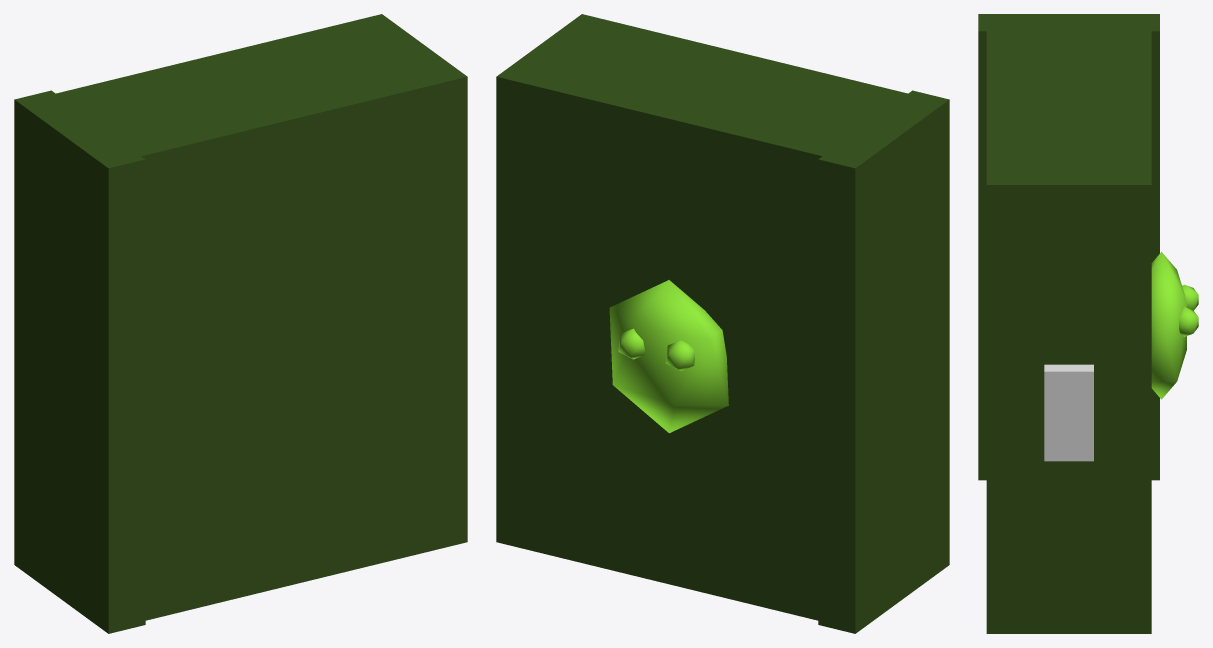
The model's file is cursed_flames.glb.
3 renders of one model, left to right at view 1: azimuth 30°, elevation 25°; view 2: azimuth 150°, elevation 25°; view 3: azimuth 270°, elevation 25°, orthographic. The views are drawn at different scales.
Parts seen in each view (by area): view 1: cursed_flames_v0; view 2: cursed_flames_v0; view 3: cursed_flames_v0.
Boxes of the visible parts, x1,y1,x2,y2 form: cursed_flames_v0: [14, 14, 467, 633]; cursed_flames_v0: [496, 14, 949, 633]; cursed_flames_v0: [978, 14, 1198, 633].
Size of the model in its own units: 0.255 by 0.3 by 0.1335.
